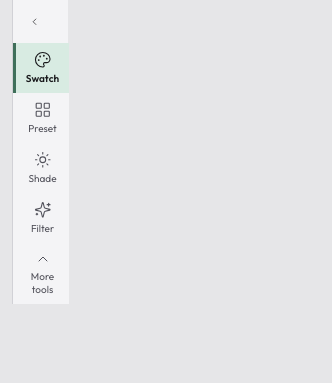
Scenario: RightPalettePanel › shows section icons when collapsed and expands on icon click
The image size is (332, 383).
What coordinates should you click on to do the following:
click the button with aria-label "Color filters"
I would click on:
 (41, 218)
Its box is [13,193,69,243].
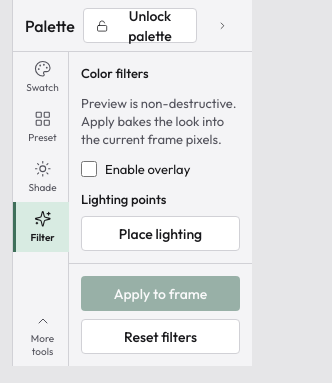
Check: the text "Color filters" is shown, box [81,65,149,81]
